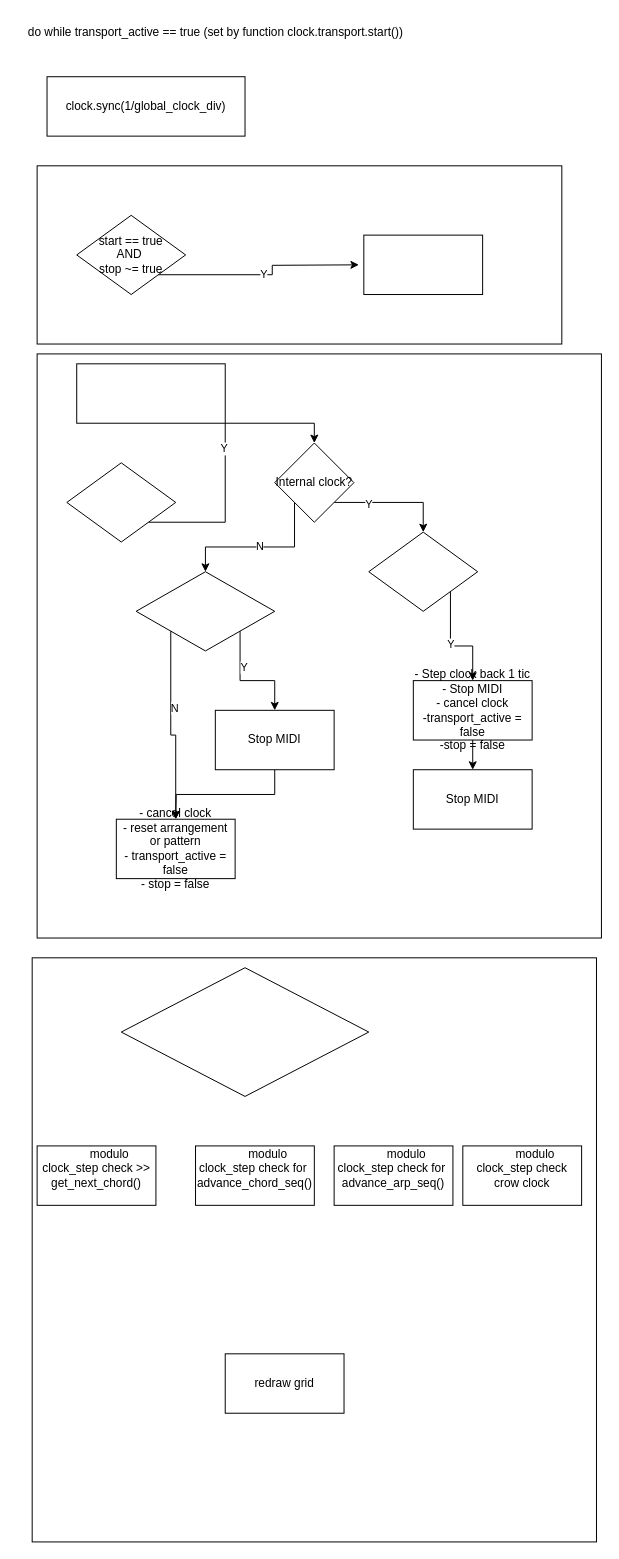
Some shapes in this 619 by 1559 pixel diagram are drawn without their labels. The shapes that lost their labels are listed below. From the top down, each one's box as (x1, y1, x2, y2) in pixels, then its label:
(363, 234, 483, 295): Send MIDI start or continue
(76, 363, 225, 423): Advance clock_step +1
(66, 462, 176, 542): stop == true?
(368, 531, 478, 611): % end of beat?
(135, 571, 275, 651): 'clock_midi_out') ~= 'off'
(120, 967, 369, 1096): 2nd check of transport_active in case it was just updated by the above
